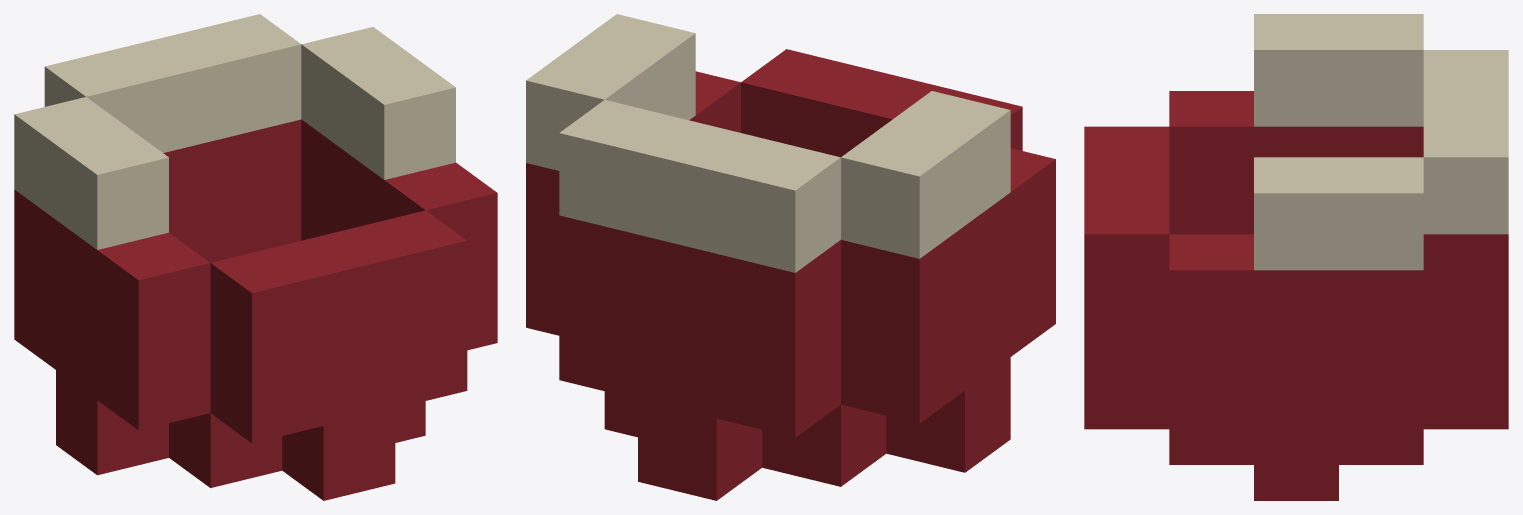
File: Playground_Set-6.obj
The picture shows the model from 3 angles, left to right: view 1: azimuth 30°, elevation 25°; view 2: azimuth 150°, elevation 25°; view 3: azimuth 270°, elevation 25°; orthographic projection. The views are drawn at different scales.
Size of the model in its own units: 0.5 by 0.4 by 0.5.
Materials: 1 (1 with a texture image).
